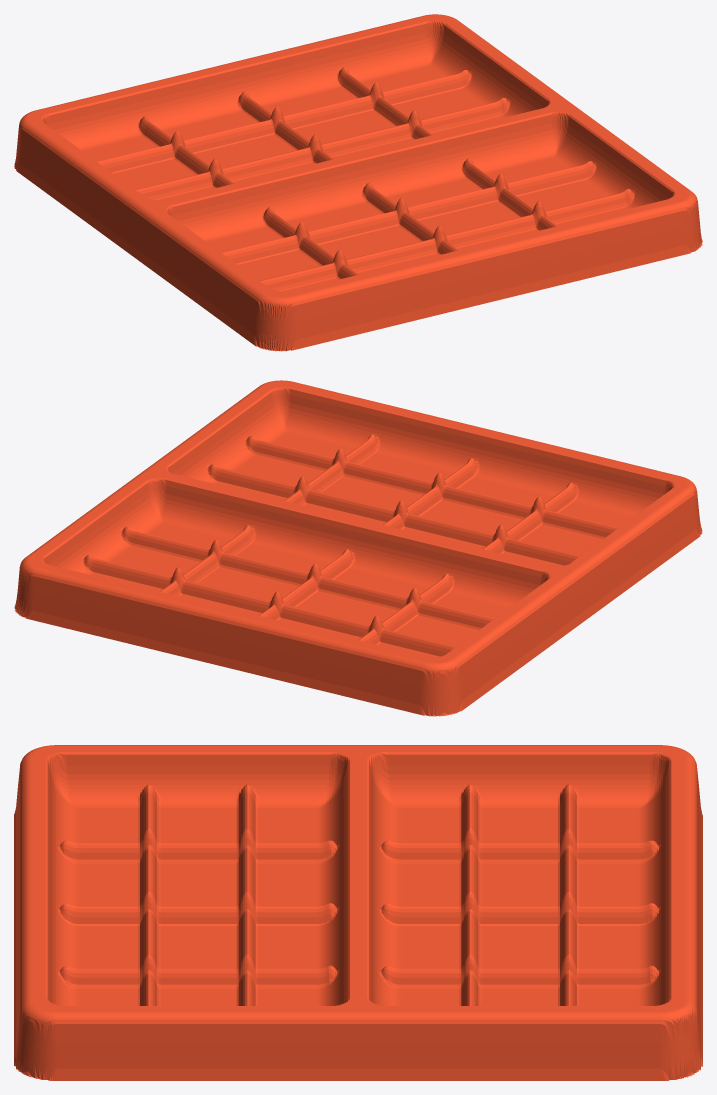
The model's file is mold.glb.
3 views of the same model, one above another, from view 1: azimuth 30°, elevation 25°; view 2: azimuth 150°, elevation 25°; view 3: azimuth 270°, elevation 25° (orthographic). The views are drawn at different scales.
Visible parts, largest first — view 1: geometry_0; view 2: geometry_0; view 3: geometry_0.
Boxes of the visible parts, x1=… form: geometry_0: x1=14, y1=14, x2=702, y2=351; geometry_0: x1=14, y1=380, x2=702, y2=716; geometry_0: x1=14, y1=745, x2=702, y2=1080.
Size of the model in its own units: 0.1417 by 0.0145 by 0.1471.
